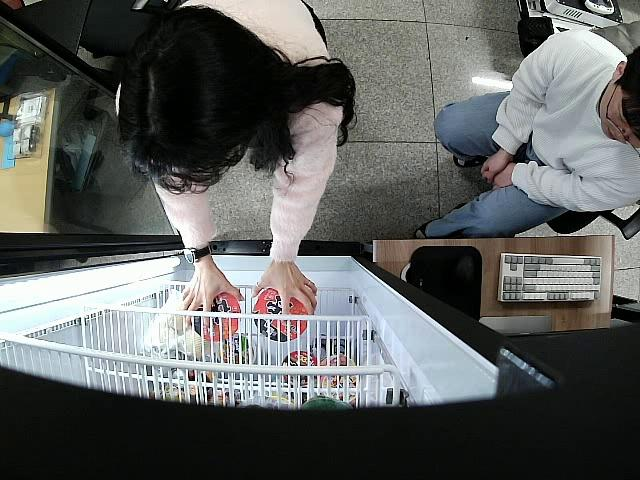00_hand: (179, 269, 244, 330), (251, 266, 318, 315)
01_shinRamen_L: (253, 287, 309, 341), (192, 291, 241, 342)
